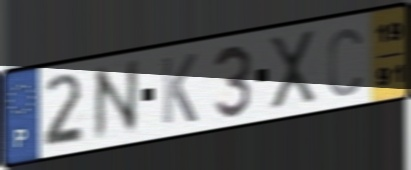2: (43, 70, 87, 152)
3: (210, 39, 254, 121)
C: (326, 25, 364, 101)
K: (159, 51, 200, 128)
N: (90, 56, 143, 146)
X: (266, 27, 320, 114)
